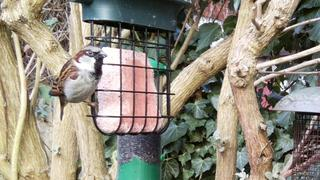sparrow: (48, 46, 109, 121)
